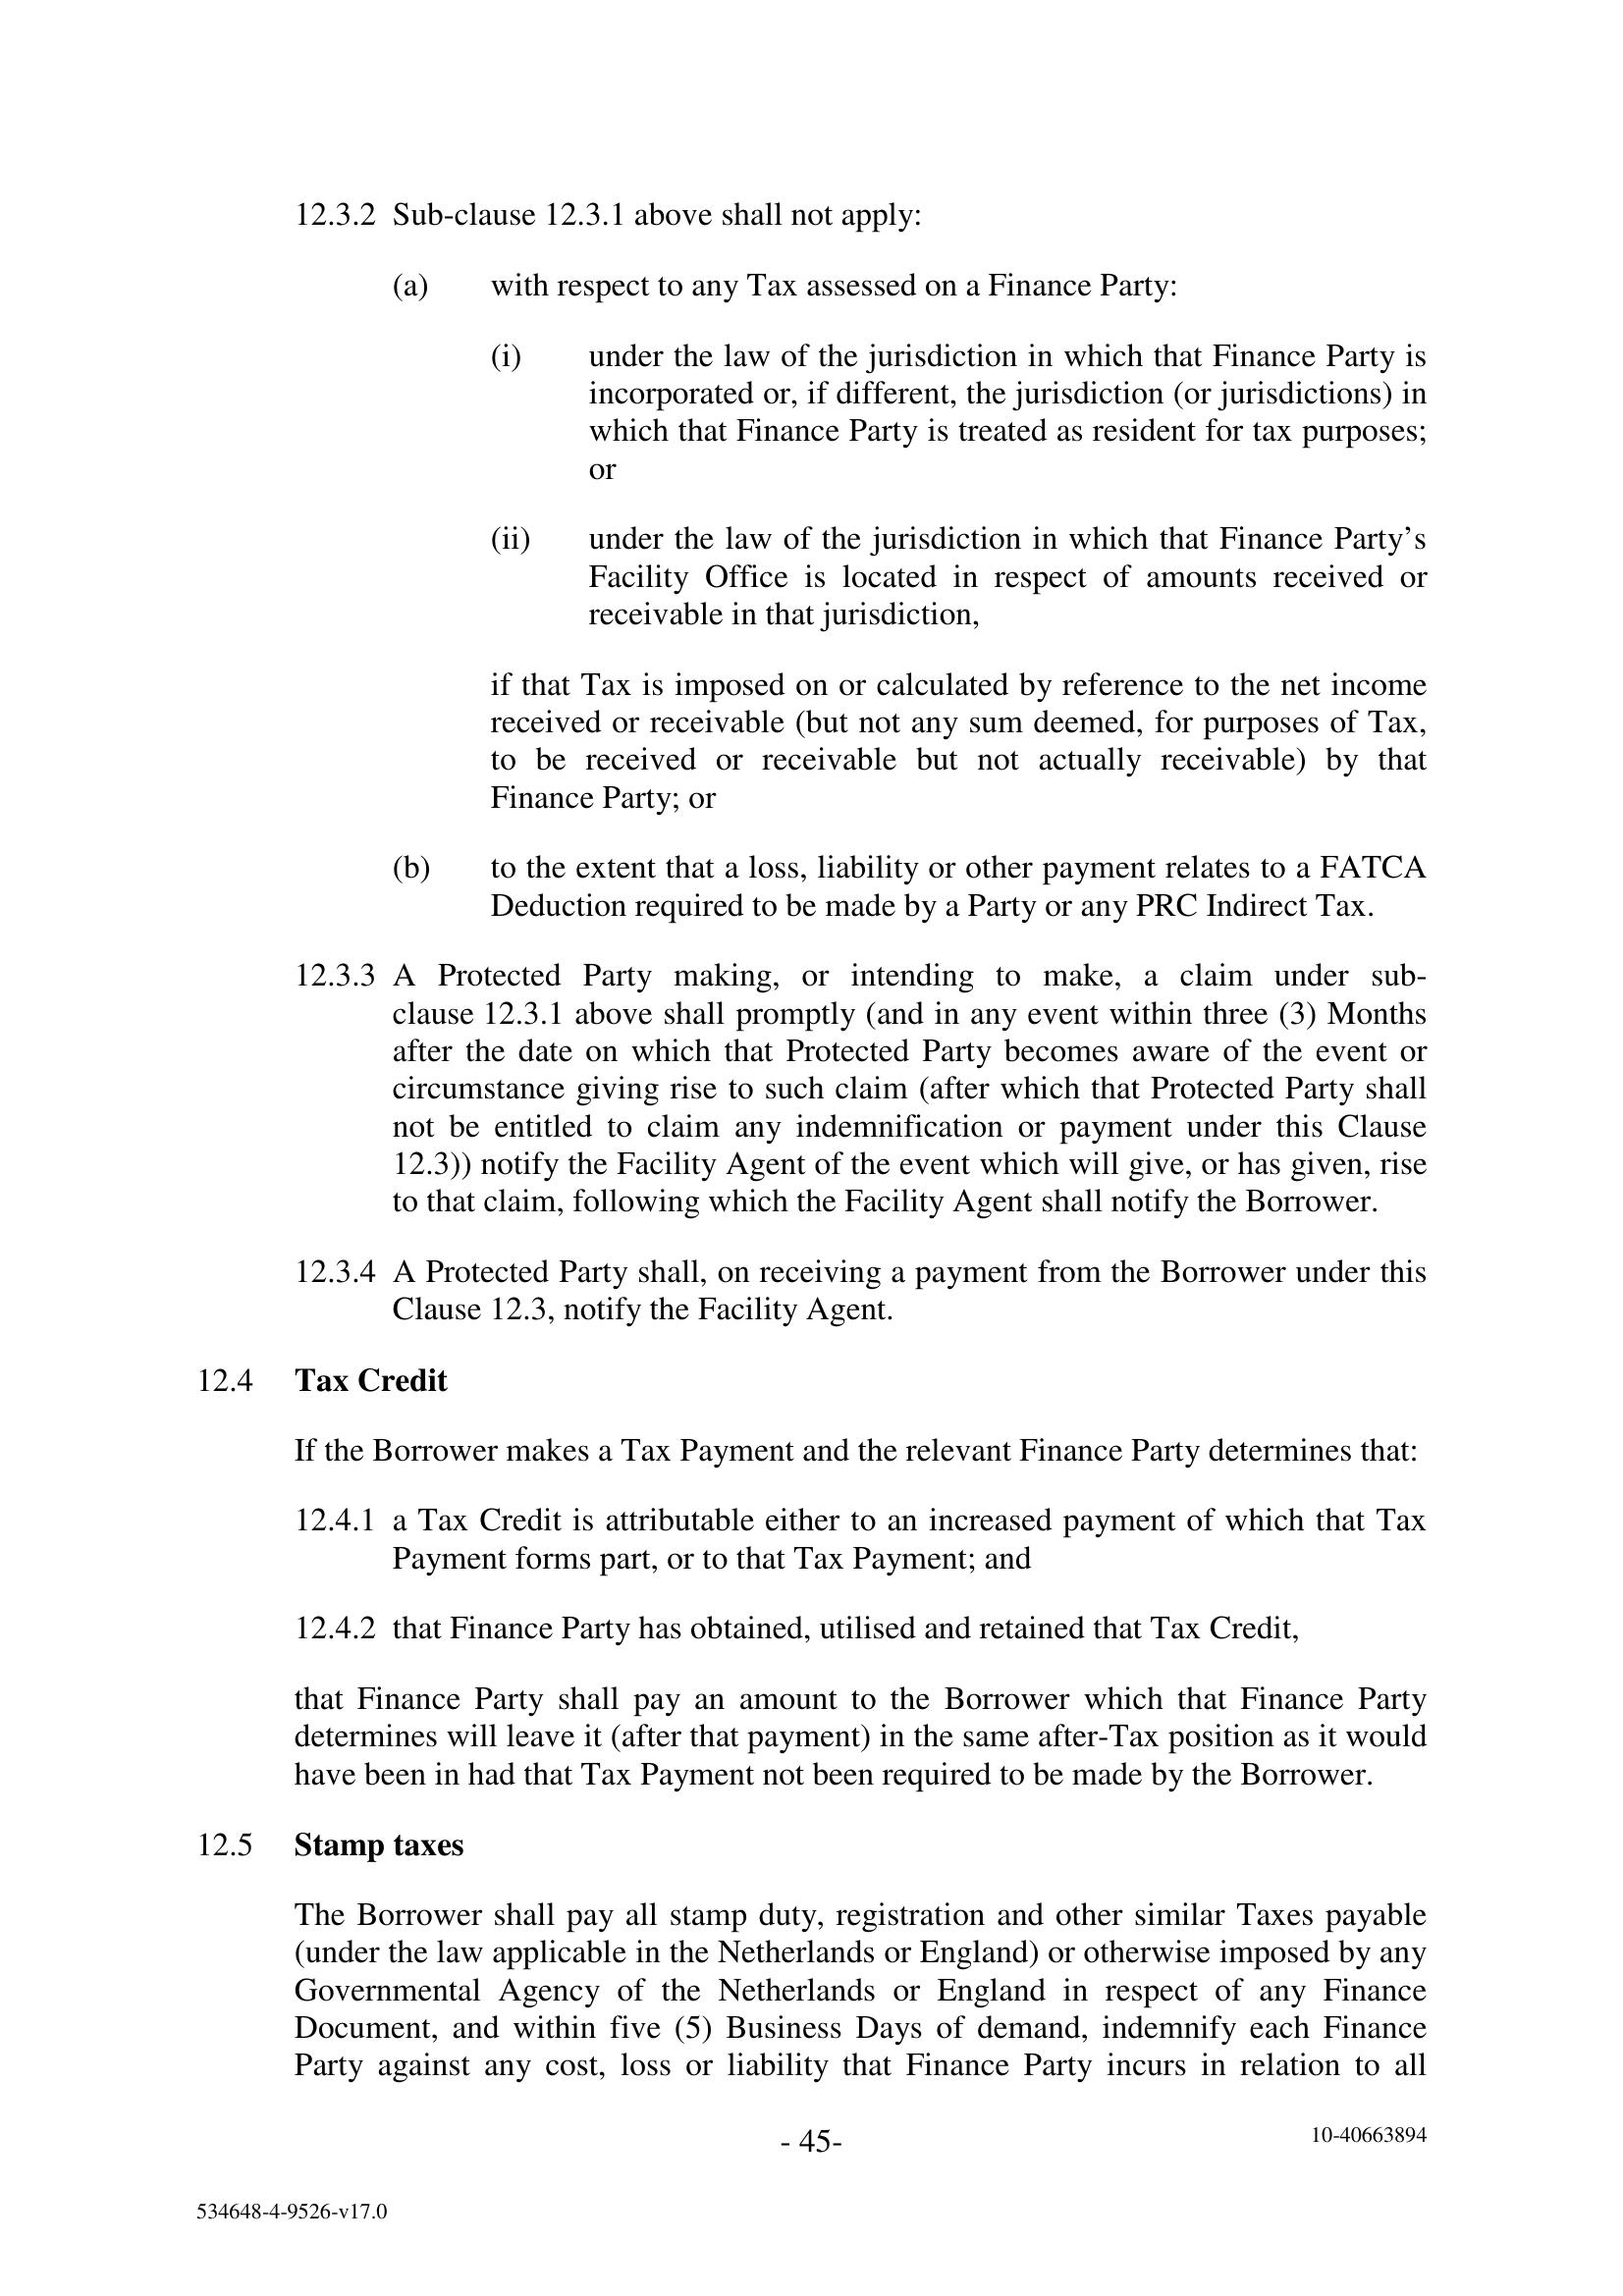pageno: (732, 2096, 887, 2203)
tag: (86, 2161, 469, 2264), (1203, 2092, 1560, 2191)
